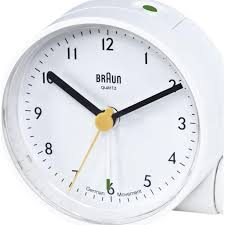alarm_clock: (4, 2, 223, 222)
